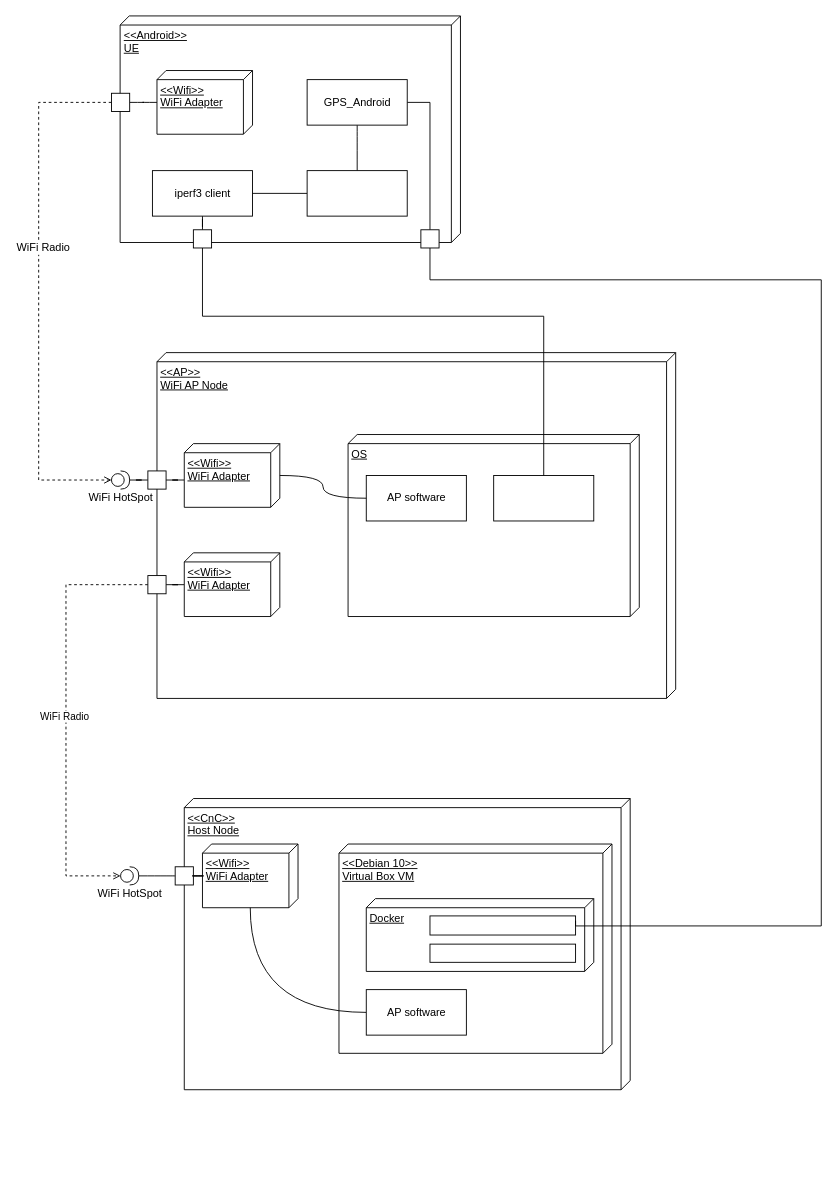
This 838x1195 diagram has some shape labels left out. The shapes that lost their labels are listed below. From the top down, each one's centre as x and y in pixels, then its label:
At [356,193]: "Local Storage".
At [543,498]: "iperf3 server".
At [502,925]: "GPS_Tracker".
At [502,952]: "GPS_Frontend".
